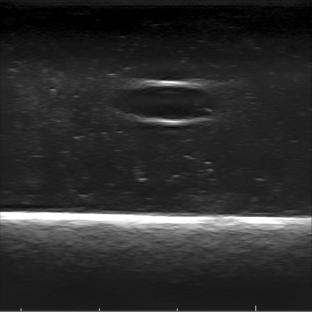vessel: (114, 81, 216, 126)
